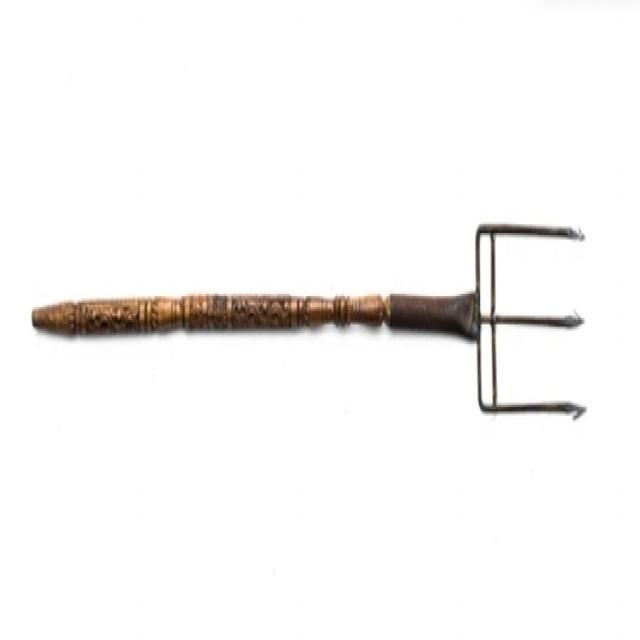spear: (22, 175, 594, 480)
